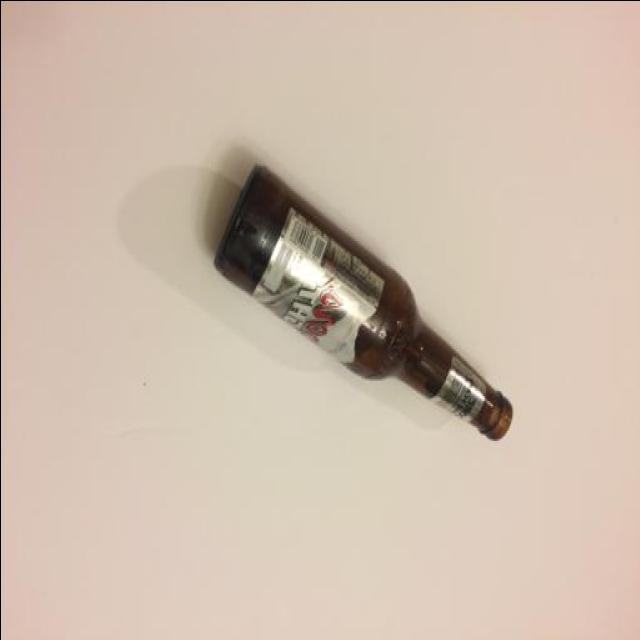glass: (161, 154, 517, 484)
